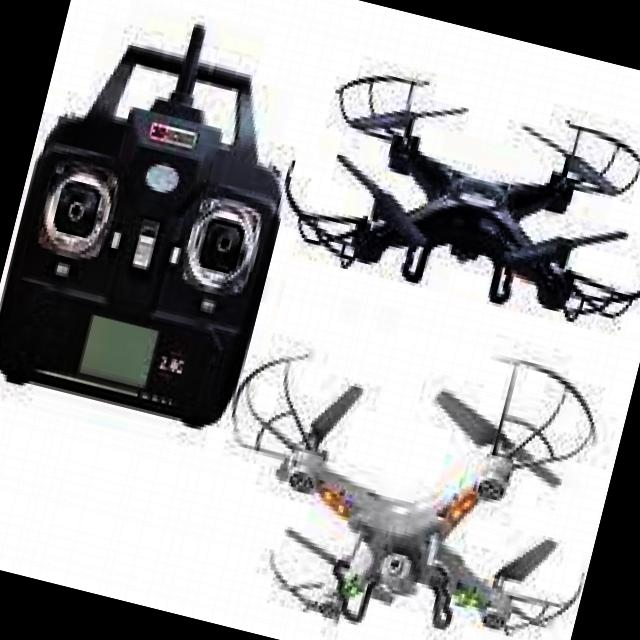drone: (179, 282, 636, 640), (249, 28, 640, 365)
